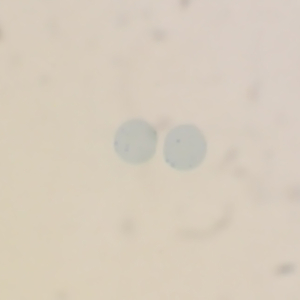punctate reticulocyte: (111, 118, 160, 167), (161, 122, 208, 173)
